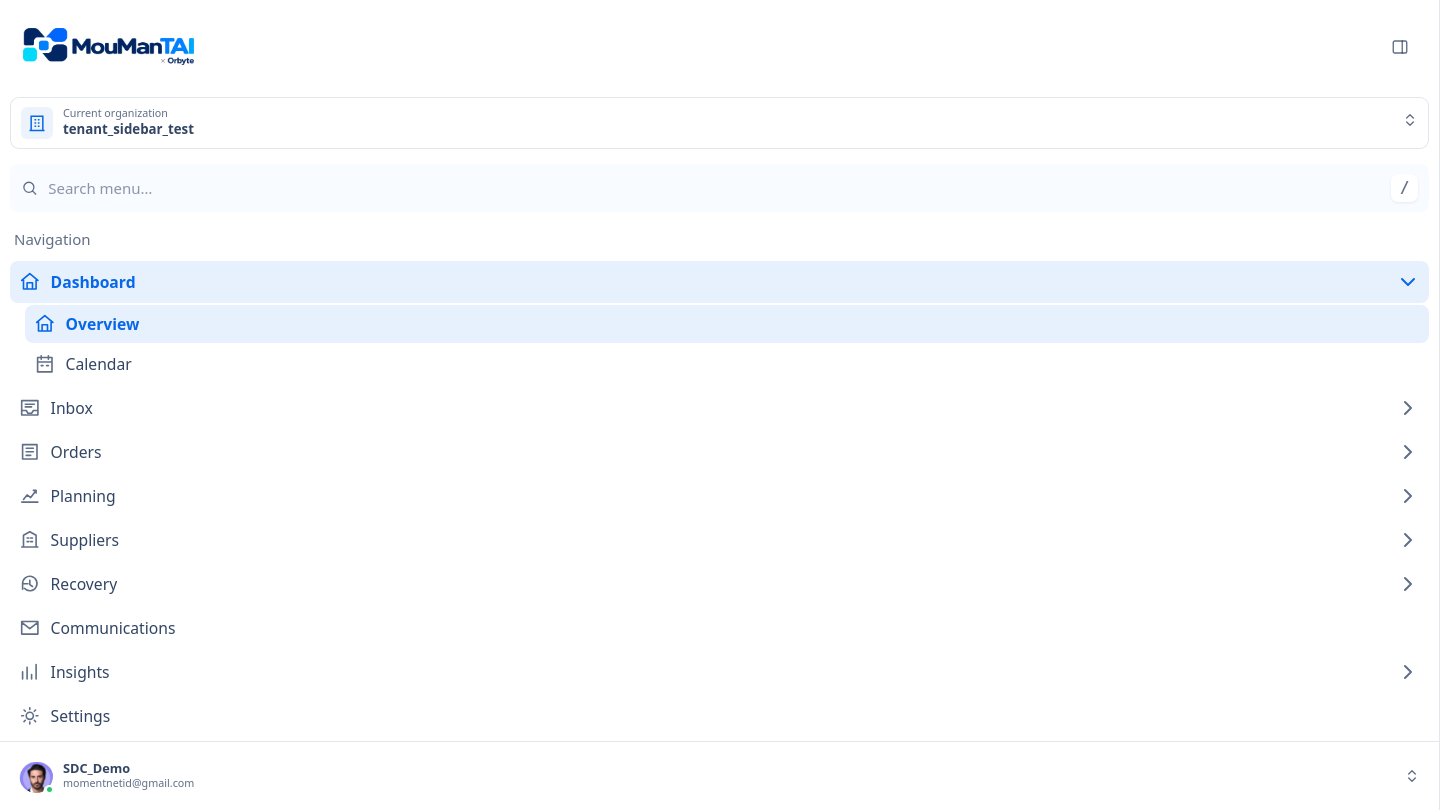
Test: shared sidebar navigation › filters menu entries and opens matching submenus with clickable links
Type "offer" into the search field named "Search menu" at point(715, 188), box [46,176,1383,198]
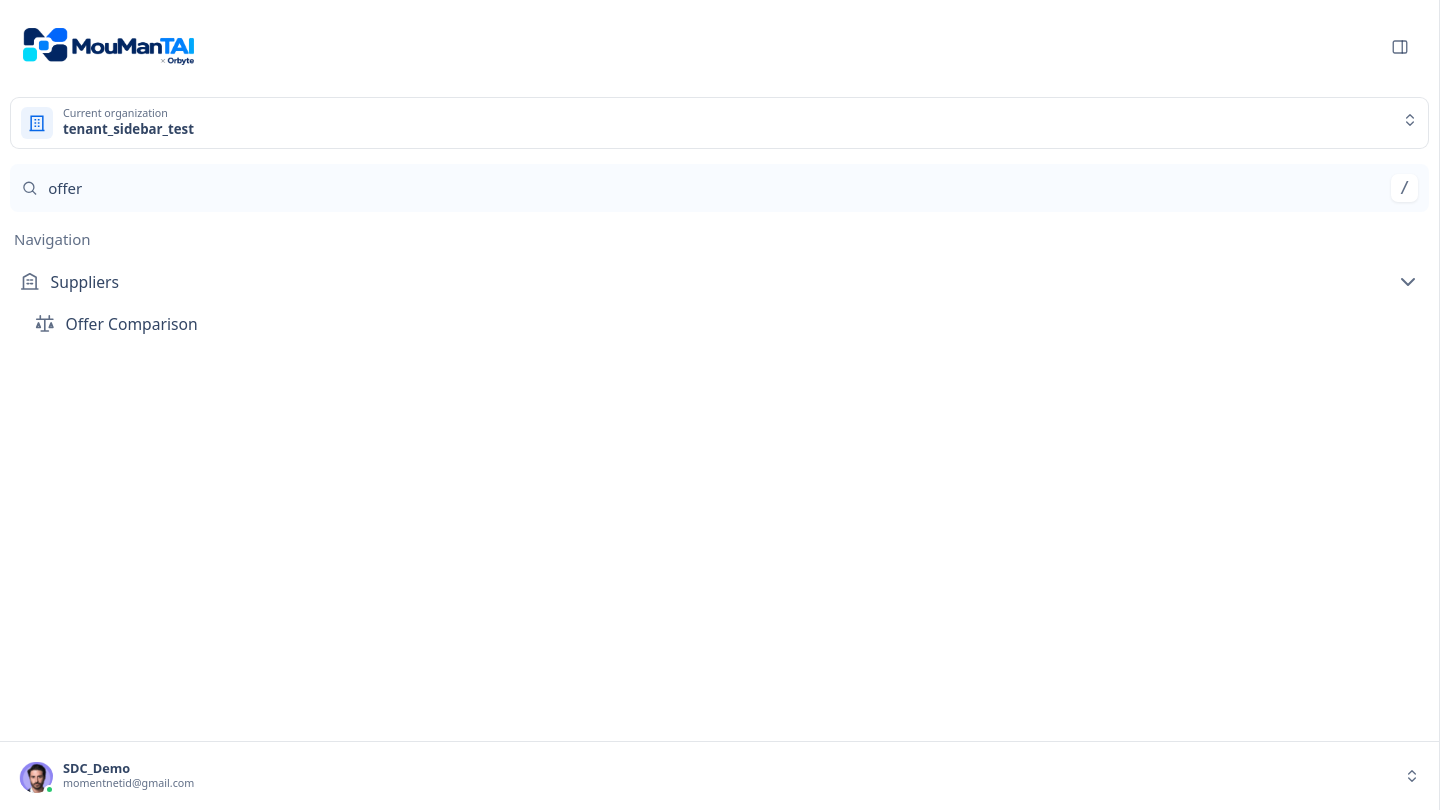
Check: the button "Suppliers" is expanded, box [10,261,1429,303]
Check: the link "Overview" is gone
